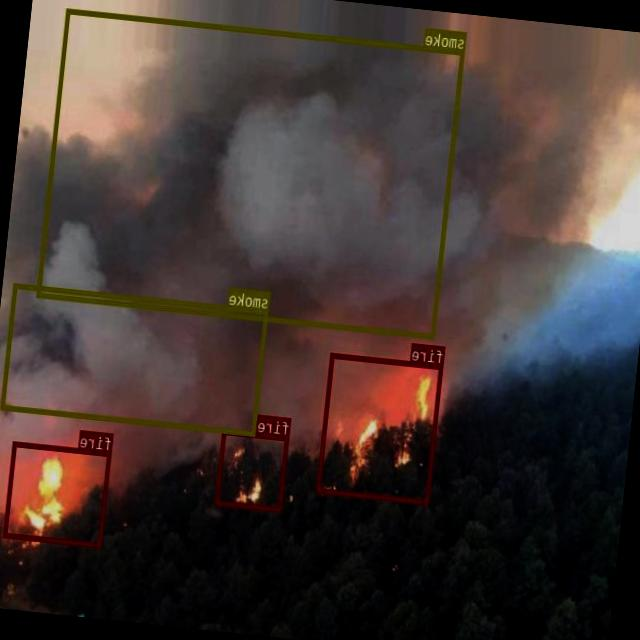fire: (316, 352, 444, 504), (3, 441, 112, 546), (214, 428, 290, 510)
smoke: (37, 8, 466, 338), (0, 282, 268, 436)
